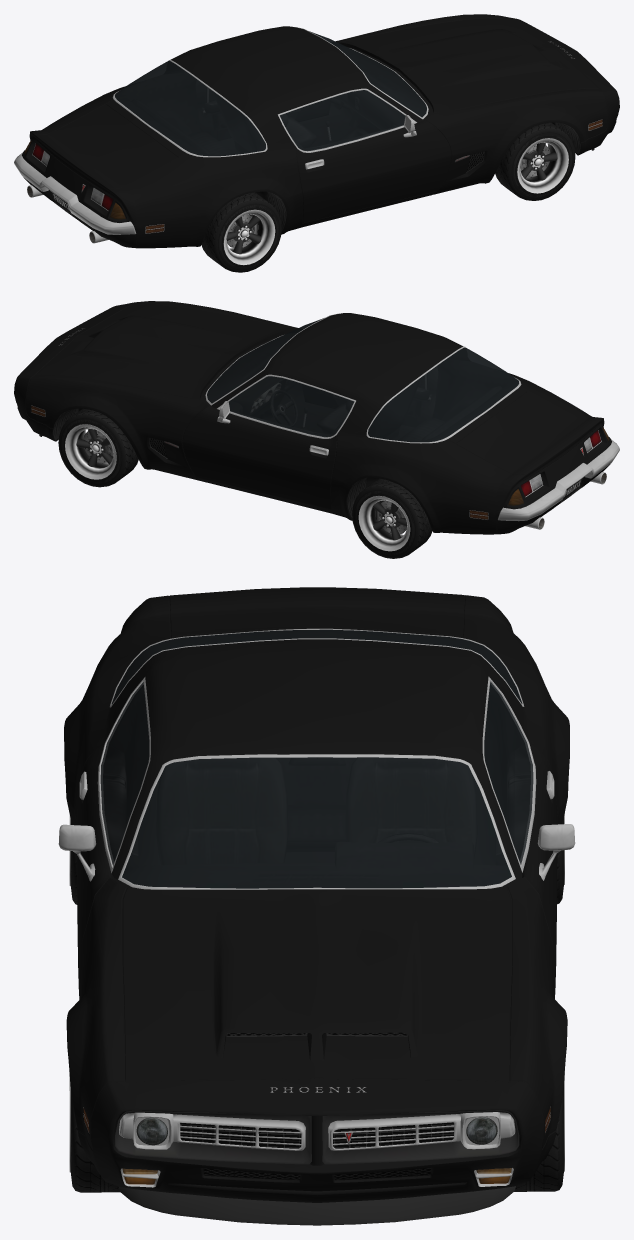
Rendered from car-muscle.glb.
3 views of the same model, one above another, from view 1: azimuth 30°, elevation 25°; view 2: azimuth 150°, elevation 25°; view 3: azimuth 270°, elevation 25° (orthographic). The views are drawn at different scales.
Visible parts, largest first — view 1: Phoenix445_Body_Phoenix445_Bodymat_0, Phoenix445_Interior_UCB_Interiors_2_0, Phoenix445_Hood_Phoenix445_Bodymat_0, Phoenix445_Glass_rear_UCB_Lights_and_Glass_Transperent_0, Phoenix445_Trunkdoor_Phoenix445_Bodymat_0, Phoenix445_Glass_Passenger_UCB_Lights_and_Glass_Transperent_, Phoenix445_WheelStock_RR_RB1c_Tire_1k_0, Phoenix445_WheelStock_FR_RB1c_Tire_1k_0, Phoenix445_Bottom_UCB_BOTTOM_0, Phoenix445_Bumper_rear_UCB_BOTTOM_0, Phoenix445_Windshield_UCB_Lights_and_Glass_Transperent_0, Phoenix445_Taillights_Glass_UCB_Lights_and_Glass_Transperent; view 2: Phoenix445_Body_Phoenix445_Bodymat_0, Phoenix445_Hood_Phoenix445_Bodymat_0, Phoenix445_Interior_UCB_Interiors_2_0, Phoenix445_Glass_rear_UCB_Lights_and_Glass_Transperent_0, Phoenix445_Trunkdoor_Phoenix445_Bodymat_0, Phoenix445_Glass_Driver_UCB_Lights_and_Glass_Transperent_0, Phoenix445_WheelStock_RL_RB1c_Tire_1k_0, Phoenix445_WheelStock_FL_RB1c_Tire_1k_0, Phoenix445_Bottom_UCB_BOTTOM_0, Phoenix445_Bumper_rear_UCB_BOTTOM_0, Phoenix445_Windshield_UCB_Lights_and_Glass_Transperent_0, Phoenix445_Taillights_Glass_UCB_Lights_and_Glass_Transperent (+1 smaller); view 3: Phoenix445_Body_Phoenix445_Bodymat_0, Phoenix445_Hood_Phoenix445_Bodymat_0, Phoenix445_Interior_UCB_Interiors_2_0, Phoenix445_Windshield_UCB_Lights_and_Glass_Transperent_0, Phoenix445_Bottom_UCB_BOTTOM_0, Phoenix445_Trunkdoor_Phoenix445_Bodymat_0, Phoenix445_Glass_Driver_UCB_Lights_and_Glass_Transperent_0, Phoenix445_Glass_Passenger_UCB_Lights_and_Glass_Transperent_, Phoenix445_Glass_rear_UCB_Lights_and_Glass_Transperent_0, Phoenix445_WheelStock_FR_RB1c_Tire_1k_0, Phoenix445_WheelStock_FL_RB1c_Tire_1k_0, Phoenix445_Headlights_glass_UCB_Lights_and_Glass_Transperent (+2 smaller).
Boxes of the visible parts, x1,y1,x2,y2 form: Phoenix445_Body_Phoenix445_Bodymat_0: (22, 14, 619, 248); Phoenix445_Interior_UCB_Interiors_2_0: (115, 47, 426, 155); Phoenix445_Hood_Phoenix445_Bodymat_0: (339, 18, 598, 112); Phoenix445_Glass_rear_UCB_Lights_and_Glass_Transperent_0: (115, 61, 265, 156); Phoenix445_Trunkdoor_Phoenix445_Bodymat_0: (35, 104, 178, 194); Phoenix445_Glass_Passenger_UCB_Lights_and_Glass_Transperent_: (280, 90, 405, 151); Phoenix445_WheelStock_RR_RB1c_Tire_1k_0: (201, 192, 281, 272); Phoenix445_WheelStock_FR_RB1c_Tire_1k_0: (495, 122, 575, 200); Phoenix445_Bottom_UCB_BOTTOM_0: (27, 27, 602, 243); Phoenix445_Bumper_rear_UCB_BOTTOM_0: (14, 152, 136, 234); Phoenix445_Windshield_UCB_Lights_and_Glass_Transperent_0: (309, 31, 426, 117); Phoenix445_Taillights_Glass_UCB_Lights_and_Glass_Transperent: (24, 141, 164, 233); Phoenix445_Body_Phoenix445_Bodymat_0: (14, 301, 611, 534); Phoenix445_Hood_Phoenix445_Bodymat_0: (35, 305, 294, 398); Phoenix445_Interior_UCB_Interiors_2_0: (207, 334, 518, 441); Phoenix445_Glass_rear_UCB_Lights_and_Glass_Transperent_0: (368, 347, 518, 442); Phoenix445_Trunkdoor_Phoenix445_Bodymat_0: (456, 391, 599, 480); Phoenix445_Glass_Driver_UCB_Lights_and_Glass_Transperent_0: (228, 376, 354, 437); Phoenix445_WheelStock_RL_RB1c_Tire_1k_0: (352, 478, 432, 558); Phoenix445_WheelStock_FL_RB1c_Tire_1k_0: (58, 408, 138, 487); Phoenix445_Bottom_UCB_BOTTOM_0: (31, 313, 606, 529); Phoenix445_Bumper_rear_UCB_BOTTOM_0: (498, 439, 619, 521); Phoenix445_Windshield_UCB_Lights_and_Glass_Transperent_0: (207, 318, 323, 403); Phoenix445_Taillights_Glass_UCB_Lights_and_Glass_Transperent: (469, 427, 609, 519); Phoenix445_Body_Phoenix445_Bodymat_0: (64, 595, 569, 1202); Phoenix445_Hood_Phoenix445_Bodymat_0: (122, 887, 511, 1081); Phoenix445_Interior_UCB_Interiors_2_0: (103, 630, 530, 887); Phoenix445_Windshield_UCB_Lights_and_Glass_Transperent_0: (122, 757, 511, 888); Phoenix445_Bottom_UCB_BOTTOM_0: (58, 628, 575, 1225); Phoenix445_Trunkdoor_Phoenix445_Bodymat_0: (169, 587, 464, 636); Phoenix445_Glass_Driver_UCB_Lights_and_Glass_Transperent_0: (484, 681, 533, 864); Phoenix445_Glass_Passenger_UCB_Lights_and_Glass_Transperent_: (100, 682, 149, 865); Phoenix445_Glass_rear_UCB_Lights_and_Glass_Transperent_0: (111, 629, 522, 704); Phoenix445_WheelStock_FR_RB1c_Tire_1k_0: (69, 1072, 119, 1192); Phoenix445_WheelStock_FL_RB1c_Tire_1k_0: (514, 1071, 564, 1191); Phoenix445_Headlights_glass_UCB_Lights_and_Glass_Transperent: (136, 1117, 497, 1145).
Bounding box in the file's own units: 4.89 × 1.33 × 2.09.
Materials: 8 (7 with a texture image).
